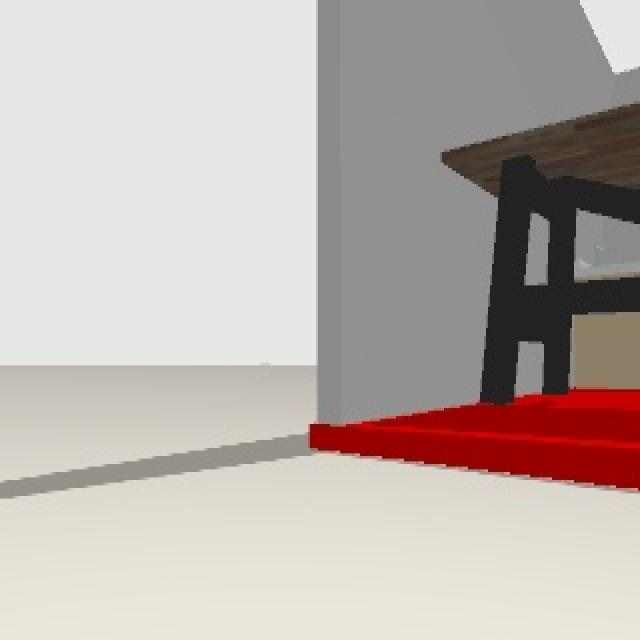dining: (439, 100, 640, 400)
